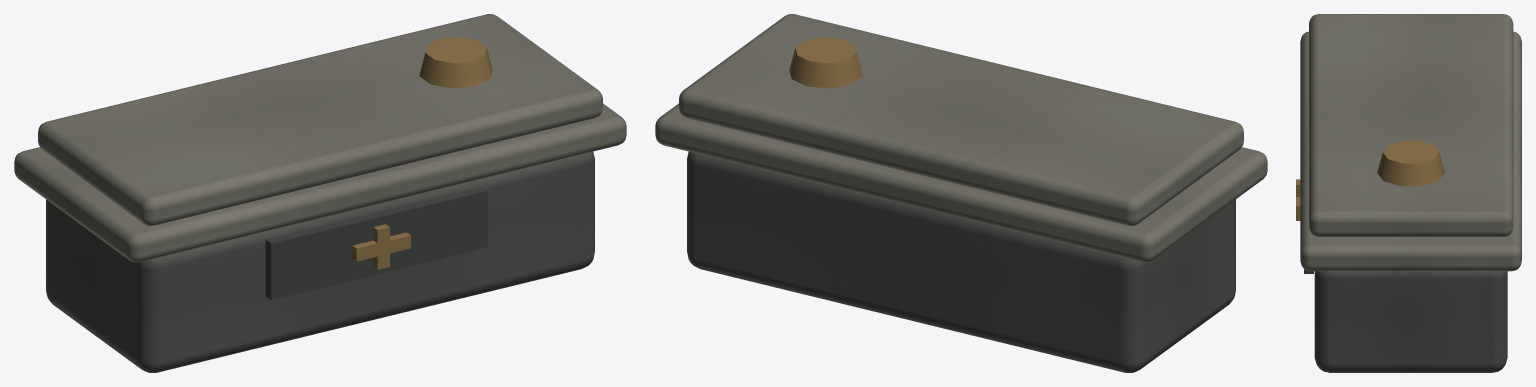
Rendered from sk-altar.glb.
The picture shows the model from 3 angles, left to right: view 1: azimuth 30°, elevation 25°; view 2: azimuth 150°, elevation 25°; view 3: azimuth 270°, elevation 25°; orthographic projection. The views are drawn at different scales.
Parts seen in each view (by area): view 1: interior:altar-static-altar-top, altar-base, altar-front-recess, interior:altar-static-altar-inlay; view 2: interior:altar-static-altar-top, altar-base, interior:altar-static-altar-inlay; view 3: interior:altar-static-altar-top, altar-base, interior:altar-static-altar-inlay.
Part boxes in pixels (left/top/right/bottom): interior:altar-static-altar-top: left=14, top=14, right=626, bottom=262; altar-base: left=46, top=151, right=594, bottom=372; altar-front-recess: left=265, top=186, right=487, bottom=300; interior:altar-static-altar-inlay: left=352, top=37, right=492, bottom=269; interior:altar-static-altar-top: left=655, top=14, right=1267, bottom=262; altar-base: left=687, top=151, right=1235, bottom=372; interior:altar-static-altar-inlay: left=789, top=37, right=862, bottom=88; interior:altar-static-altar-top: left=1300, top=14, right=1521, bottom=271; altar-base: left=1314, top=271, right=1507, bottom=372; interior:altar-static-altar-inlay: left=1296, top=140, right=1444, bottom=220.
Bounding box in the file's own units: 1.84 × 0.72 × 0.795.
4 materials, 2 textured.
